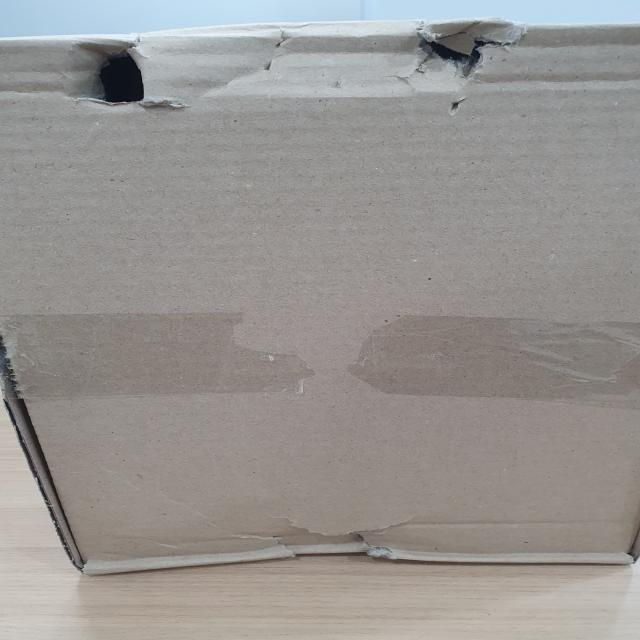hole: (403, 11, 541, 109), (58, 27, 184, 116)
